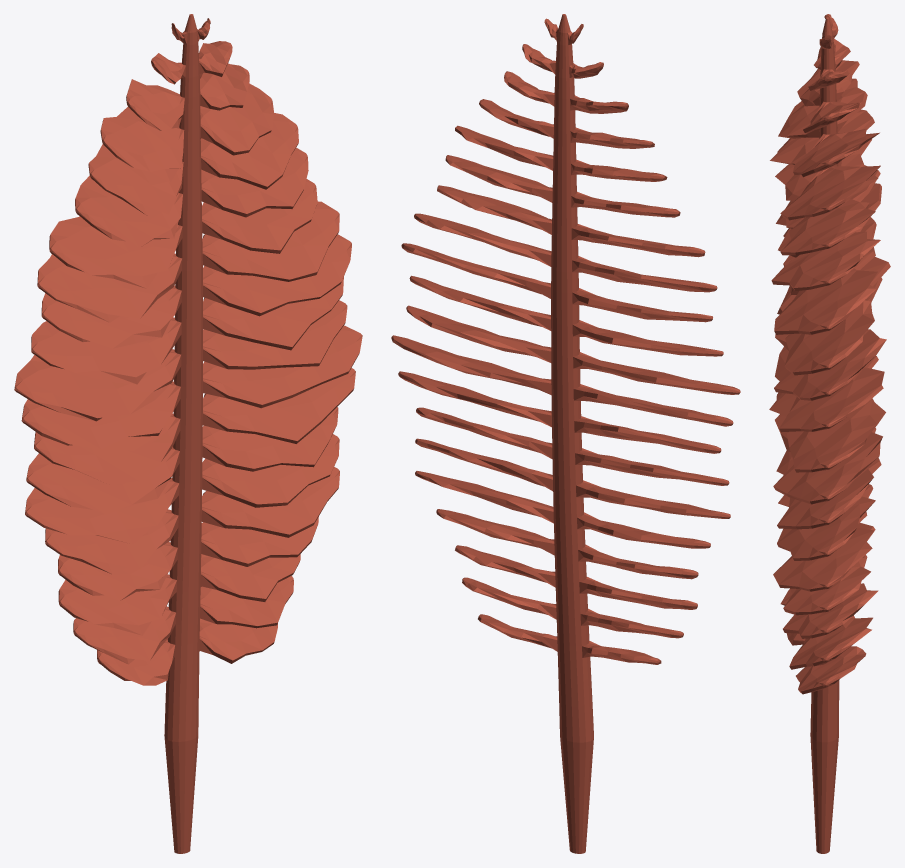
3 renders of one model, left to right at view 1: azimuth 30°, elevation 25°; view 2: azimuth 150°, elevation 25°; view 3: azimuth 270°, elevation 25°, orthographic.
Parts seen in each view (by area): view 1: NEW655_LOD0_Colony; view 2: NEW655_LOD0_Colony; view 3: NEW655_LOD0_Colony.
Part boxes in pixels (x1=…): NEW655_LOD0_Colony: x1=14, y1=14, x2=362, y2=853; NEW655_LOD0_Colony: x1=391, y1=14, x2=740, y2=853; NEW655_LOD0_Colony: x1=769, y1=14, x2=890, y2=853.
Size of the model in its own units: 0.1428 by 0.326 by 0.043.
